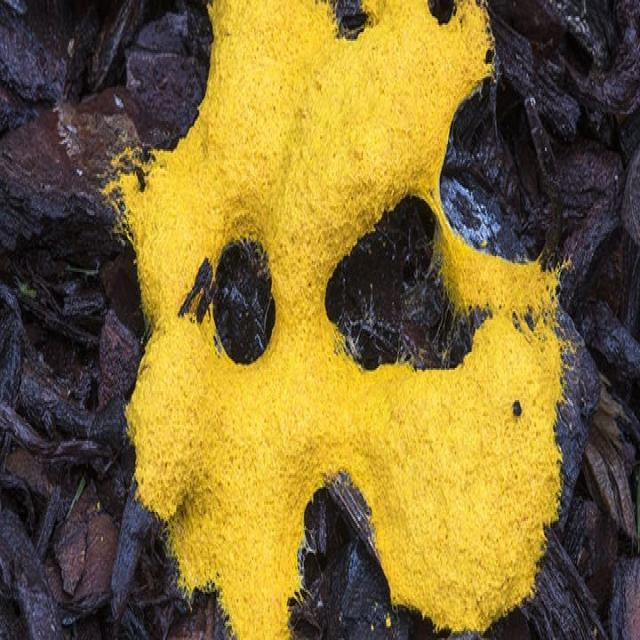Dog_vomit_slime_mold: (118, 0, 562, 640)
